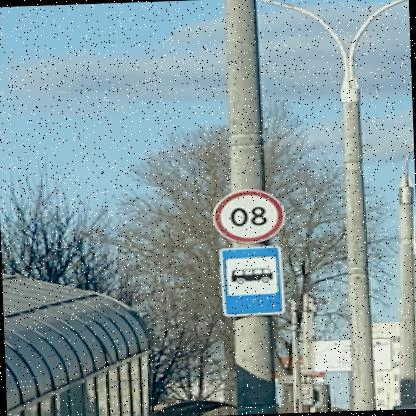speedlimit: (216, 188, 288, 243)
